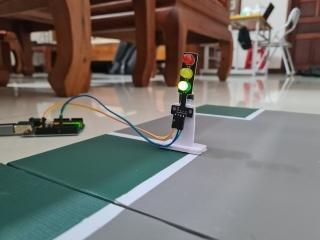green: (167, 45, 207, 99)
